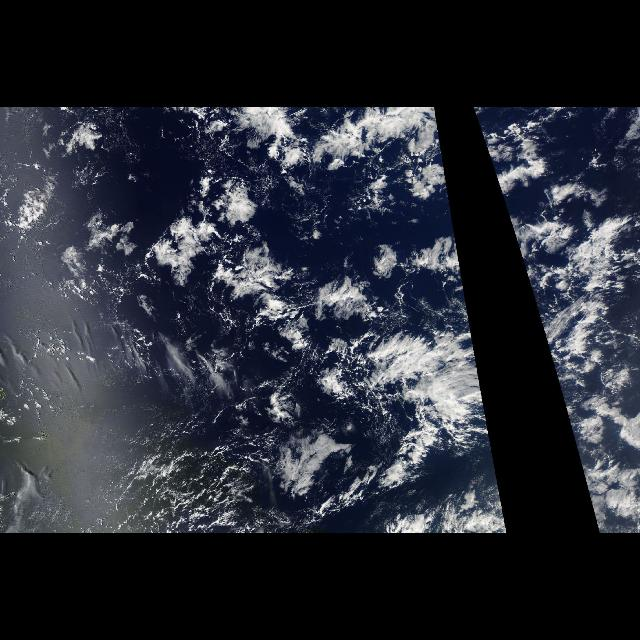Flower: (80, 185, 470, 328), (499, 185, 549, 328)
Gravel: (130, 452, 254, 518)
